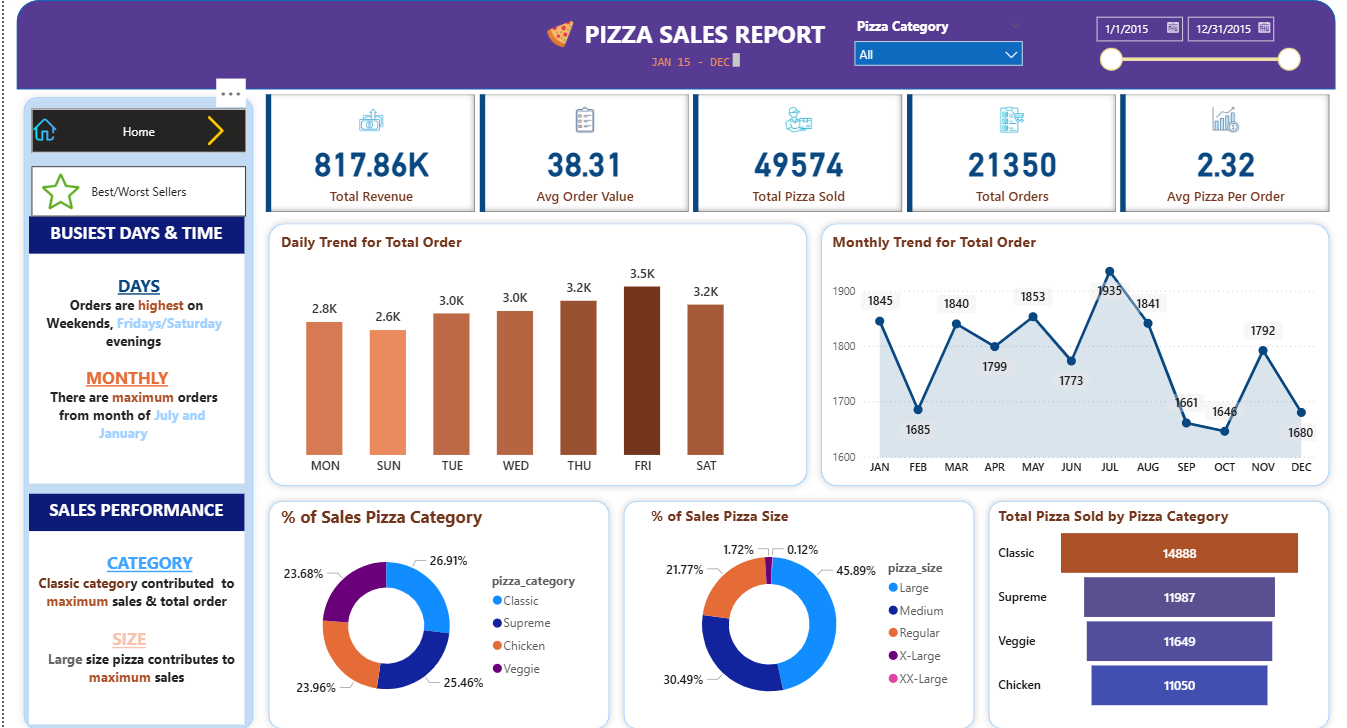

The page's visual inventory and layout, read from the dashboard file:
{"tool":"powerbi","page":{"name":"Home","canvas":[1500,820],"ordinal":0},"visuals":[{"type":"shape","box":[14.5,99.7,271.8,720.4],"z":0},{"type":"cardVisual","fields":{"Data":["pizza_sales.Total Revenue","pizza_sales.Avg Order Value","pizza_sales.Total Pizza Sold","pizza_sales.Total Orders","pizza_sales.Avg Pizza Per Order"]},"box":[286.2,99.7,1198,141.5],"z":1000},{"type":"shape","box":[14.5,0,1469.8,99.7],"z":2000},{"type":"textbox","box":[603,14.5,355.4,48.2],"z":3000},{"type":"textbox","box":[715.6,54.7,109.3,28.9],"z":4000},{"type":"image","box":[582.1,17.7,75.6,40.2],"z":5000},{"type":"shape","box":[286.2,241.2,615.9,308.7],"z":6000},{"type":"columnChart","title":"Daily Trend for Total Order","fields":{"Category":["pizza_sales.Order Day"],"Y":["pizza_sales.Total Orders"]},"box":[303.9,257.3,533.9,281.4],"z":7000},{"type":"shape","box":[902.1,241.2,582.1,308.7],"z":8000},{"type":"areaChart","title":"Monthly Trend for Total Order","fields":{"Category":["pizza_sales.Order Month"],"Y":["pizza_sales.Total Orders"]},"box":[918.2,257.3,550,281.4],"z":9000},{"type":"shape","box":[286.2,550,395.6,270.2],"z":10000},{"type":"textbox","box":[27.3,283,239.6,255.7],"z":11000},{"type":"shape","box":[681.8,550,406.8,270.2],"z":12000},{"type":"shape","box":[1088.7,550,395.6,270.2],"z":13000},{"type":"textbox","box":[27.3,241.2,239.6,41.8],"z":14000},{"type":"donutChart","title":"% of Sales Pizza Category","fields":{"Category":["pizza_sales.pizza_category"],"Y":["pizza_sales.Total Revenue"]},"box":[303.9,562.8,353.8,244.4],"z":15000},{"type":"donutChart","title":"% of Sales Pizza Size","fields":{"Category":["pizza_sales.pizza_size"],"Y":["pizza_sales.Total Revenue"]},"box":[715.6,562.8,353.8,244.4],"z":16000},{"type":"funnel","title":"Total Pizza Sold by Pizza Category","fields":{"Category":["pizza_sales.pizza_category"],"Y":["pizza_sales.Total Pizza Sold"]},"box":[1103.1,562.8,349,233.2],"z":17000},{"type":"textbox","box":[27.3,550,239.6,41.8],"z":18000},{"type":"textbox","box":[27.3,591.8,239.6,215.5],"z":19000},{"type":"slicer","fields":{"Values":["pizza_sales.pizza_category"]},"box":[937.5,14.5,207.4,62.7],"z":20000},{"type":"slicer","fields":{"Values":["pizza_sales.order_date"]},"box":[1204.4,8,247.6,91.7],"z":21000},{"type":"pageNavigator","box":[30.6,120.6,239.6,49.9],"z":22000},{"type":"pageNavigator","box":[30.6,184.9,239.6,56.3],"z":23000},{"type":"image","box":[204.2,123.8,62.7,43.4],"z":24000},{"type":"image","box":[27.3,120.6,35.4,46.6],"z":25000},{"type":"image","box":[37,180.1,51.5,67.5],"z":26000}]}

Visuals, with their boxes on the page's 1500x820 design canvas (x1, y1, x2, y2). These are canvas units, not pixel positions in the 1347x728 screenshot, which may show the page scaled, cropped or inside an application window:
shape: [x1=14, y1=100, x2=286, y2=820]
cardVisual - pizza_sales.Total Revenue x pizza_sales.Avg Order Value: [x1=286, y1=100, x2=1484, y2=241]
shape: [x1=14, y1=0, x2=1484, y2=100]
textbox: [x1=603, y1=14, x2=958, y2=63]
textbox: [x1=716, y1=55, x2=825, y2=84]
image: [x1=582, y1=18, x2=658, y2=58]
shape: [x1=286, y1=241, x2=902, y2=550]
"Daily Trend for Total Order" columnChart: [x1=304, y1=257, x2=838, y2=539]
shape: [x1=902, y1=241, x2=1484, y2=550]
"Monthly Trend for Total Order" areaChart: [x1=918, y1=257, x2=1468, y2=539]
shape: [x1=286, y1=550, x2=682, y2=820]
textbox: [x1=27, y1=283, x2=267, y2=539]
shape: [x1=682, y1=550, x2=1089, y2=820]
shape: [x1=1089, y1=550, x2=1484, y2=820]
textbox: [x1=27, y1=241, x2=267, y2=283]
"% of Sales Pizza Category" donutChart: [x1=304, y1=563, x2=658, y2=807]
"% of Sales Pizza Size" donutChart: [x1=716, y1=563, x2=1069, y2=807]
"Total Pizza Sold by Pizza Category" funnel: [x1=1103, y1=563, x2=1452, y2=796]
textbox: [x1=27, y1=550, x2=267, y2=592]
textbox: [x1=27, y1=592, x2=267, y2=807]
slicer - pizza_sales.pizza_category: [x1=938, y1=14, x2=1145, y2=77]
slicer - pizza_sales.order_date: [x1=1204, y1=8, x2=1452, y2=100]
pageNavigator: [x1=31, y1=121, x2=270, y2=170]
pageNavigator: [x1=31, y1=185, x2=270, y2=241]
image: [x1=204, y1=124, x2=267, y2=167]
image: [x1=27, y1=121, x2=63, y2=167]
image: [x1=37, y1=180, x2=88, y2=248]
